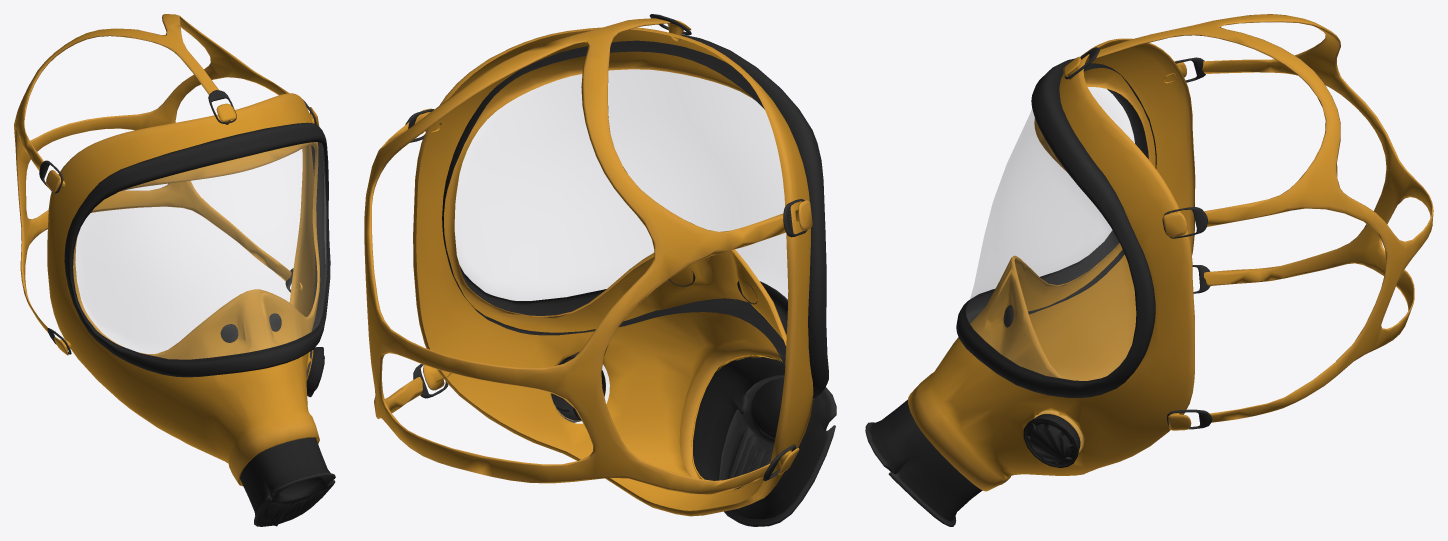
Rendered from only_GasMask.fbx.
3 views of the same model, side by side, from view 1: azimuth 30°, elevation 25°; view 2: azimuth 150°, elevation 25°; view 3: azimuth 270°, elevation 25° (orthographic). The views are drawn at different scales.
Parts seen in each view (by area): view 1: only_GasMask; view 2: only_GasMask; view 3: only_GasMask.
Boxes of the visible parts, x1=… form: only_GasMask: x1=14, y1=14, x2=335, y2=526; only_GasMask: x1=364, y1=14, x2=836, y2=526; only_GasMask: x1=865, y1=14, x2=1433, y2=526.
Bounding box in the file's own units: 0.1818 × 0.2674 × 0.2781.
